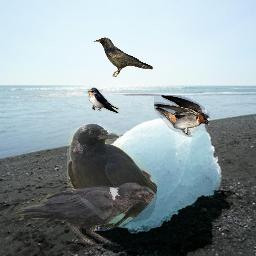Crow: (67, 123, 157, 231), (15, 181, 156, 246), (93, 37, 153, 77)
Swallow: (154, 95, 210, 137), (87, 87, 119, 114)
